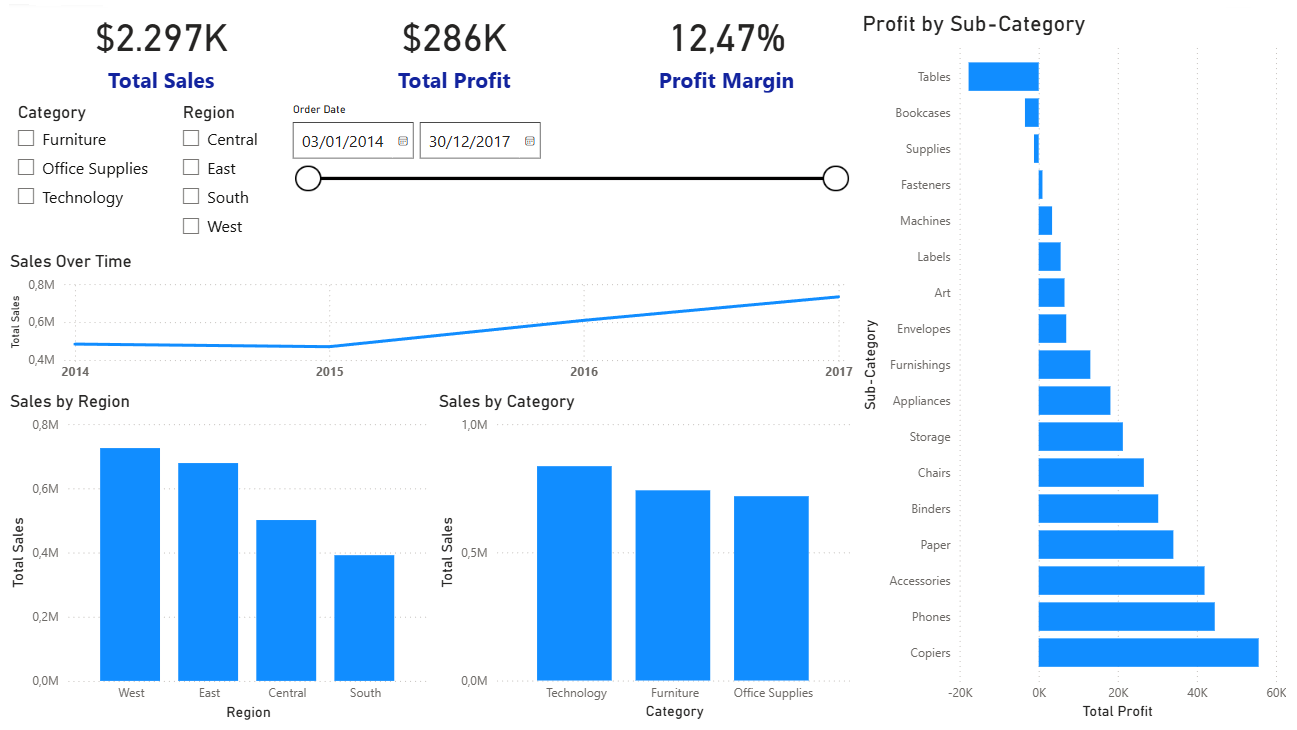

Layout of this report page (visuals, bound fields, positions):
{"tool":"powerbi","page":{"name":"Page 1","canvas":[1280,720],"ordinal":0},"visuals":[{"type":"card","fields":{"Values":["Sample - Superstore.Total Sales"]},"box":[0,0,311.2,96.2],"z":0},{"type":"clusteredBarChart","title":"Profit by Sub-Category","fields":{"Category":["Sample - Superstore.Sub-Category"],"Y":["Sample - Superstore.Total Profit"]},"box":[848.4,10,431.7,710.3],"z":1000},{"type":"card","fields":{"Values":["Sample - Superstore.Profit Margin"]},"box":[588.8,0,260,96.2],"z":2000},{"type":"slicer","fields":{"Values":["Sample - Superstore.Region"]},"box":[163.8,96.2,110,152.5],"z":3000},{"type":"card","fields":{"Values":["Sample - Superstore.Total Profit"]},"box":[306.2,0,282.5,96.2],"z":4000},{"type":"slicer","fields":{"Values":["Sample - Superstore.Category"]},"box":[0,96.2,156.2,140],"z":5000},{"type":"clusteredColumnChart","title":"Sales by Category","fields":{"Category":["Sample - Superstore.Category"],"Y":["Sample - Superstore.Total Sales"]},"box":[426.7,388.1,421.7,332.1],"z":6000},{"type":"slicer","fields":{"Values":["Sample - Superstore.Order Date"]},"box":[273.7,95.8,574.7,108.2],"z":7000},{"type":"clusteredColumnChart","title":"Sales by Region","fields":{"Category":["Sample - Superstore.Region"],"Y":["Sample - Superstore.Total Sales"]},"box":[0,387.5,426.2,332.5],"z":8000},{"type":"lineChart","title":"Sales Over Time","fields":{"Y":["Sample - Superstore.Total Sales"],"Category":["Sample - Superstore.Order Date.Variation.Date Hierarchy.Year","Sample - Superstore.Order Date.Variation.Date Hierarchy.Month"]},"box":[0,248.8,848.8,138.8],"z":9000}]}

Visuals, with their boxes in screenshot pixels (x1, y1, x2, y2), scaled from the page's 1280x720 canvas onto the 1297x730 screenshot:
card - Sample - Superstore.Total Sales: detection(0, 0, 315, 98)
"Profit by Sub-Category" clusteredBarChart: detection(860, 10, 1296, 729)
card - Sample - Superstore.Profit Margin: detection(597, 0, 860, 98)
slicer - Sample - Superstore.Region: detection(166, 98, 277, 252)
card - Sample - Superstore.Total Profit: detection(310, 0, 597, 98)
slicer - Sample - Superstore.Category: detection(0, 98, 158, 239)
"Sales by Category" clusteredColumnChart: detection(432, 393, 860, 729)
slicer - Sample - Superstore.Order Date: detection(277, 97, 860, 207)
"Sales by Region" clusteredColumnChart: detection(0, 393, 432, 729)
"Sales Over Time" lineChart: detection(0, 252, 860, 393)
